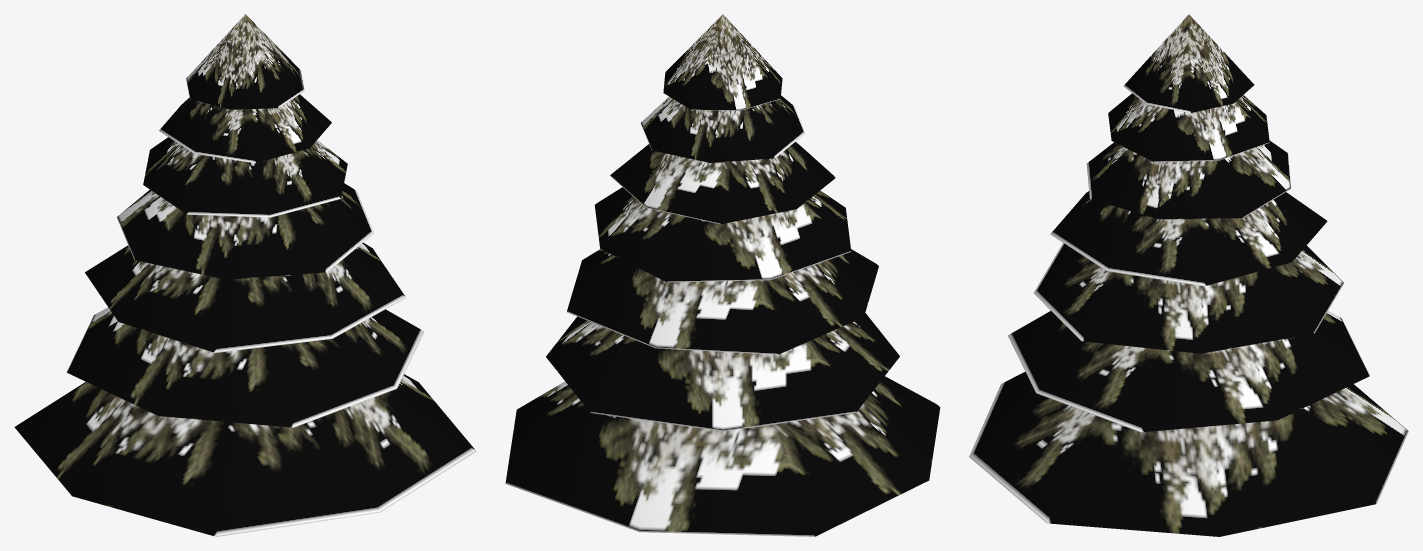
The model's file is pinesno_1.obj.
3 renders of one model, left to right at view 1: azimuth 30°, elevation 25°; view 2: azimuth 150°, elevation 25°; view 3: azimuth 270°, elevation 25°, orthographic.
Visible parts, largest first — view 1: pinesno_1; view 2: pinesno_1; view 3: pinesno_1.
Part boxes in pixels (bbox=[...]): pinesno_1: bbox=[14, 14, 476, 536]; pinesno_1: bbox=[505, 14, 940, 536]; pinesno_1: bbox=[969, 14, 1408, 536].
Size of the model in its own units: 6.1 by 7.52 by 6.1.
